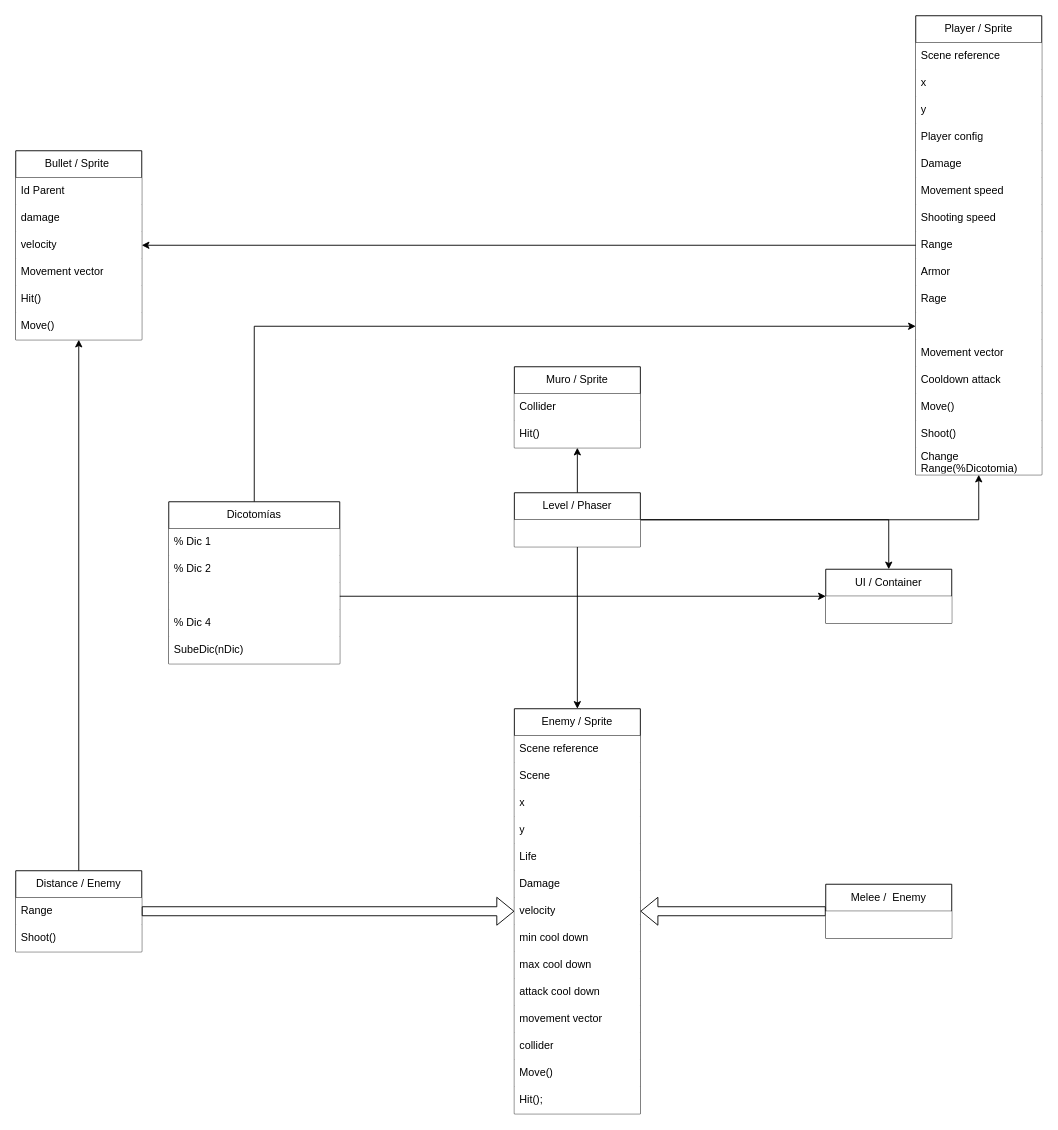
The diagram is 1058 pixels wide and 1130 high, and some of its shapes have lost their labels. The centre of each missing label's shape, as x and y in pixels:
% Dic 3: the point at 253,595
Cambia Ui(%Dic): the point at 888,609
Eureka: the point at 978,325
Lose condition: the point at 577,532
Tick time: the point at 888,924
